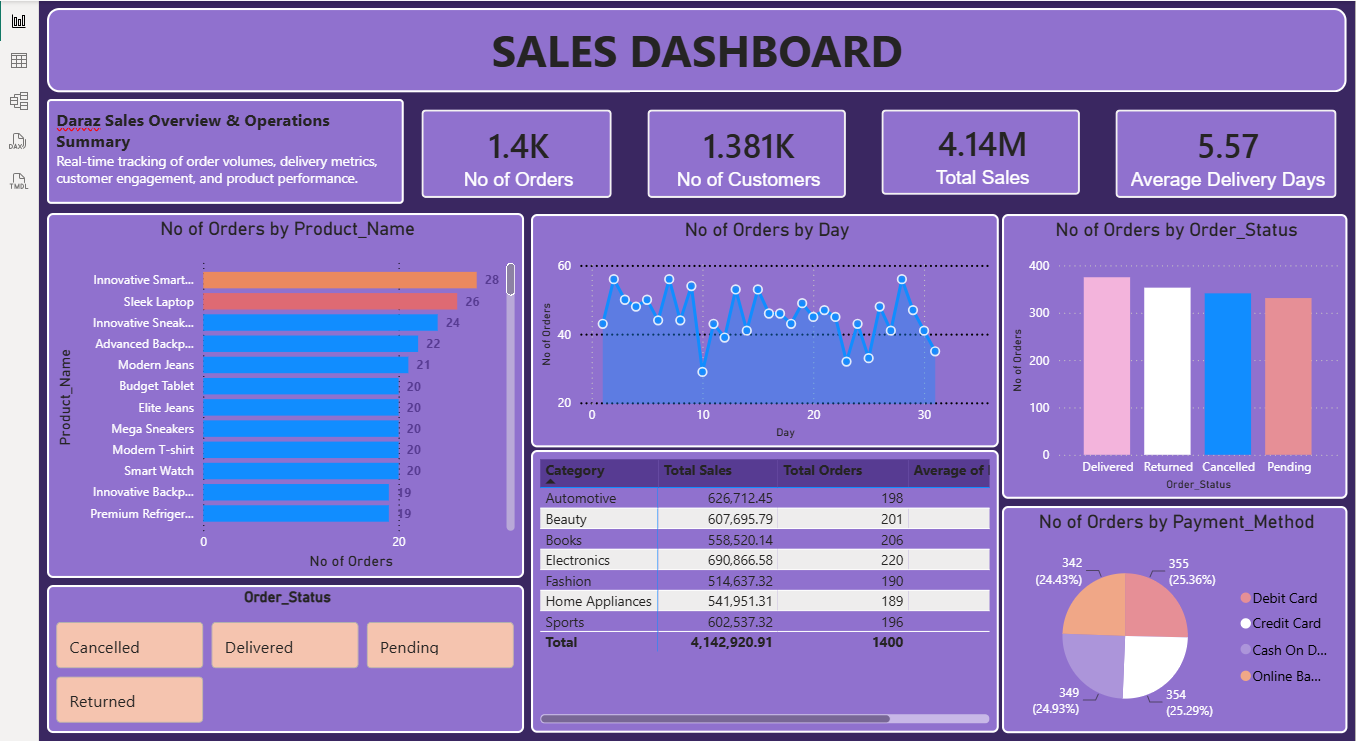

What the dashboard file says about the page in this screenshot:
{"tool":"powerbi","page":{"name":"Page 1","canvas":[1280,720],"ordinal":0},"visuals":[{"type":"cardVisual","fields":{"Data":["Count(Cleaned_Daraz_Sales.Order_ID)"]},"box":[355,88.5,219.8,120.6],"z":0},{"type":"textbox","box":[7.8,6.8,1264.4,81.7],"z":1000},{"type":"cardVisual","fields":{"Data":["Count(Cleaned_Daraz_Sales.Customer_Name)"]},"box":[574.8,88.5,227.6,120.6],"z":2000},{"type":"cardVisual","fields":{"Data":["Avg(Cleaned_Daraz_Sales.Delivery_Days)"]},"box":[1030,88.5,250,120.6],"z":3000},{"type":"lineChart","fields":{"Category":["Cleaned_Daraz_Sales.Order_Date.Variation.Date Hierarchy.Day"],"Y":["CountNonNull(Cleaned_Daraz_Sales.Order_ID)"]},"box":[478.5,207.2,455.2,226.6],"z":4000},{"type":"barChart","fields":{"Category":["Cleaned_Daraz_Sales.Product_Name"],"Y":["CountNonNull(Cleaned_Daraz_Sales.Order_ID)"]},"box":[7.8,206.2,464,355],"z":4001},{"type":"pieChart","fields":{"Y":["CountNonNull(Cleaned_Daraz_Sales.Order_ID)"],"Category":["Cleaned_Daraz_Sales.Payment_Method"]},"box":[936.7,491.2,335.6,220.8],"z":4002},{"type":"cardVisual","fields":{"Data":["Cleaned_Daraz_Sales.Total Sales"]},"box":[802.4,88.5,227.6,117.7],"z":4003},{"type":"pivotTable","fields":{"Rows":["Cleaned_Daraz_Sales.Category"],"Values":["Cleaned_Daraz_Sales.Total Sales","CountNonNull(Cleaned_Daraz_Sales.Order_ID)","Avg(Cleaned_Daraz_Sales.Delivery_Days)"]},"box":[478.5,436.7,455.2,275.3],"z":4004},{"type":"columnChart","fields":{"Category":["Cleaned_Daraz_Sales.Order_Status"],"Y":["CountNonNull(Cleaned_Daraz_Sales.Order_ID)"]},"box":[936.7,207.2,335.6,277.2],"z":4006},{"type":"textbox","box":[7.8,95.3,347.2,102.1],"z":4007},{"type":"advancedSlicerVisual","fields":{"Values":["Cleaned_Daraz_Sales.Order_Status"]},"box":[7.8,568,464,144],"z":4008}]}

Visuals, with their boxes in screenshot pixels (x1, y1, x2, y2):
cardVisual - Count(Cleaned_Daraz_Sales.Order_ID): BBox(403, 90, 626, 212)
textbox: BBox(50, 7, 1335, 90)
cardVisual - Count(Cleaned_Daraz_Sales.Customer_Name): BBox(626, 90, 857, 212)
cardVisual - Avg(Cleaned_Daraz_Sales.Delivery_Days): BBox(1089, 90, 1342, 212)
lineChart - Cleaned_Daraz_Sales.Order_Date.Variation.Date Hierarchy.Day x CountNonNull(Cleaned_Daraz_Sales.Order_ID): BBox(528, 210, 991, 441)
barChart - Cleaned_Daraz_Sales.Product_Name x CountNonNull(Cleaned_Daraz_Sales.Order_ID): BBox(50, 209, 522, 570)
pieChart - CountNonNull(Cleaned_Daraz_Sales.Order_ID) x Cleaned_Daraz_Sales.Payment_Method: BBox(994, 499, 1335, 723)
cardVisual - Cleaned_Daraz_Sales.Total Sales: BBox(857, 90, 1089, 209)
pivotTable - Cleaned_Daraz_Sales.Category x Cleaned_Daraz_Sales.Total Sales: BBox(528, 444, 991, 723)
columnChart - Cleaned_Daraz_Sales.Order_Status x CountNonNull(Cleaned_Daraz_Sales.Order_ID): BBox(994, 210, 1335, 492)
textbox: BBox(50, 97, 403, 201)
advancedSlicerVisual - Cleaned_Daraz_Sales.Order_Status: BBox(50, 577, 522, 723)
